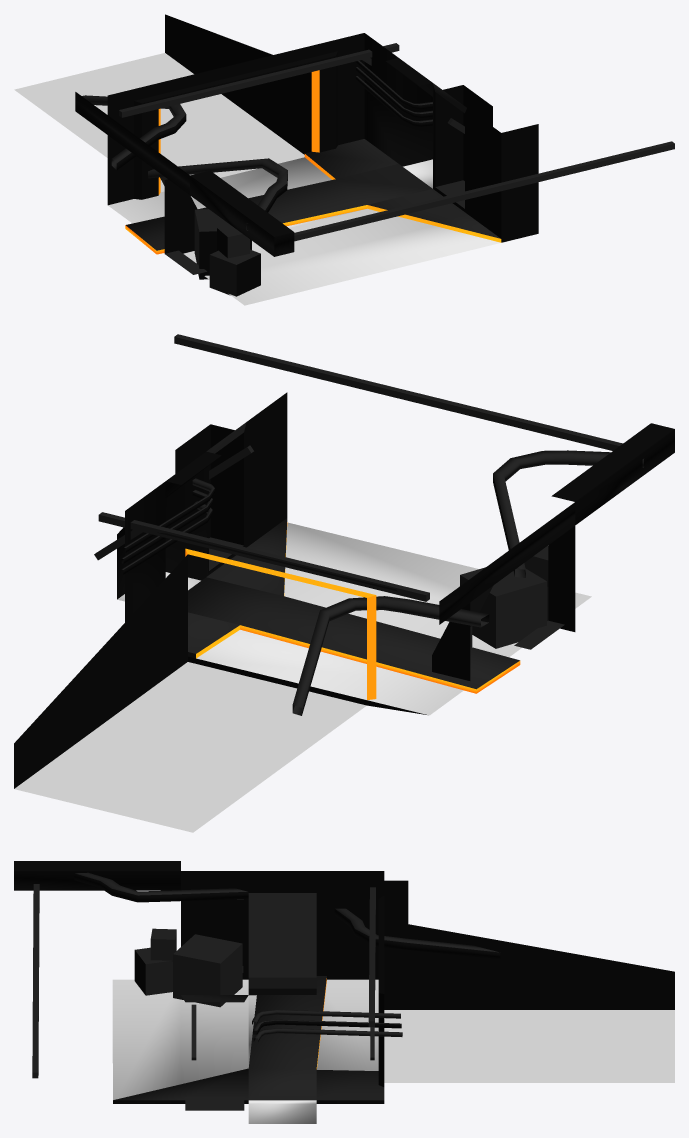
The model's file is 1Tile4.fbx.
The picture shows the model from 3 angles, top to bottom: view 1: azimuth 30°, elevation 25°; view 2: azimuth 150°, elevation 25°; view 3: azimuth 270°, elevation 25°; orthographic projection. The views are drawn at different scales.
Visible parts, largest first — view 1: Plane, Cube.011, Cube.012, Cube.031, Cube.001, Cube.030, Cube.023, Cube.035, Cube.015, Cube.014, Cube.013; view 2: Plane, Cube.011, Cube.030, Cube.023, Cube.012, Cube.001, Cube.014; view 3: Plane, Cube.030, Cube.001, Cube.023, Cube.031, Cube.011, Cube.012, Cube.015, Cube.013, Cube.014, Cube.035.
Boxes of the visible parts, <box> form: Plane: <box>14,14,538,305</box>; Cube.011: <box>294,141,674,241</box>; Cube.012: <box>119,43,399,117</box>; Cube.031: <box>209,249,260,296</box>; Cube.001: <box>148,158,287,230</box>; Cube.030: <box>194,209,251,279</box>; Cube.023: <box>82,95,186,170</box>; Cube.035: <box>217,225,249,258</box>; Cube.015: <box>355,76,432,126</box>; Cube.014: <box>354,60,432,109</box>; Cube.013: <box>356,67,432,117</box>; Plane: <box>14,392,674,832</box>; Cube.011: <box>174,334,622,450</box>; Cube.030: <box>460,567,546,648</box>; Cube.023: <box>292,596,489,715</box>; Cube.012: <box>98,512,429,601</box>; Cube.001: <box>493,450,643,577</box>; Cube.014: <box>124,478,214,552</box>; Plane: <box>14,861,674,1123</box>; Cube.030: <box>173,934,242,1007</box>; Cube.001: <box>74,872,248,902</box>; Cube.023: <box>334,908,500,959</box>; Cube.031: <box>134,947,172,995</box>; Cube.011: <box>32,884,39,1078</box>; Cube.012: <box>368,887,375,1026</box>; Cube.015: <box>253,1028,402,1042</box>; Cube.013: <box>253,1019,401,1034</box>; Cube.014: <box>252,1010,400,1025</box>; Cube.035: <box>150,928,176,961</box>.
Bounding box in the file's own units: 13896 × 3780 × 19539.
